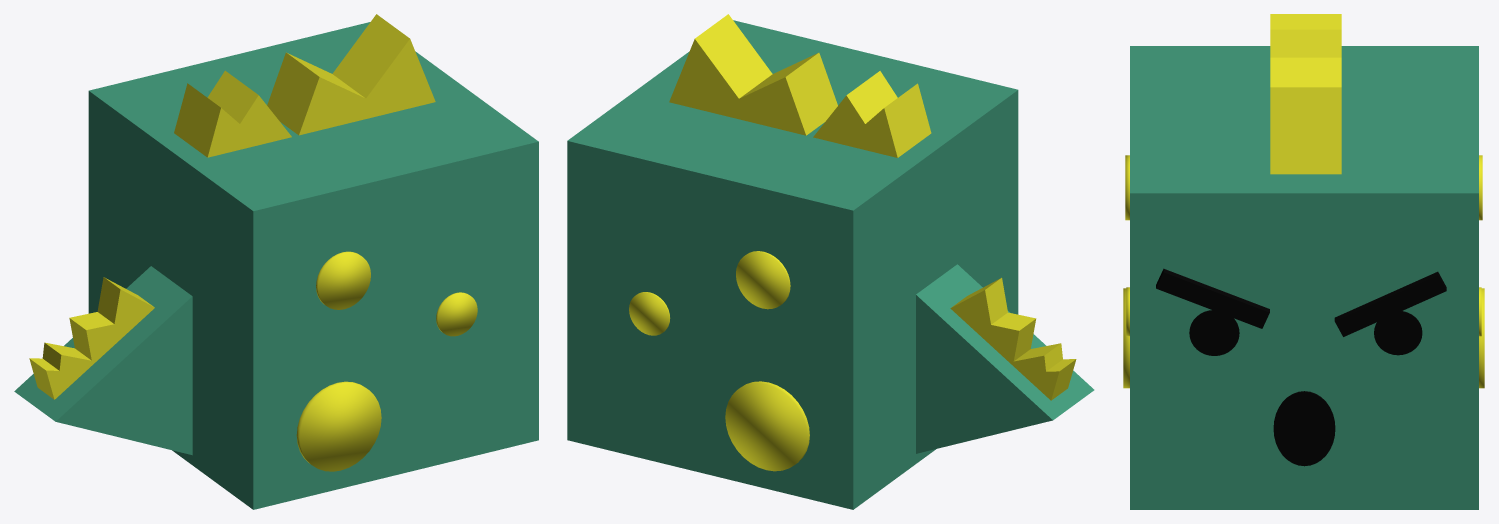
The model's file is dragon.fbx.
3 views of the same model, side by side, from view 1: azimuth 30°, elevation 25°; view 2: azimuth 150°, elevation 25°; view 3: azimuth 270°, elevation 25° (orthographic). The views are drawn at different scales.
Parts seen in each view (by area): view 1: dragon.001; view 2: dragon.001; view 3: dragon.001.
Boxes of the visible parts, x1=… form: dragon.001: x1=14, y1=14, x2=538, y2=509; dragon.001: x1=567, y1=14, x2=1094, y2=509; dragon.001: x1=1123, y1=14, x2=1484, y2=509.
Bounding box in the file's own units: 396 × 324 × 272.
